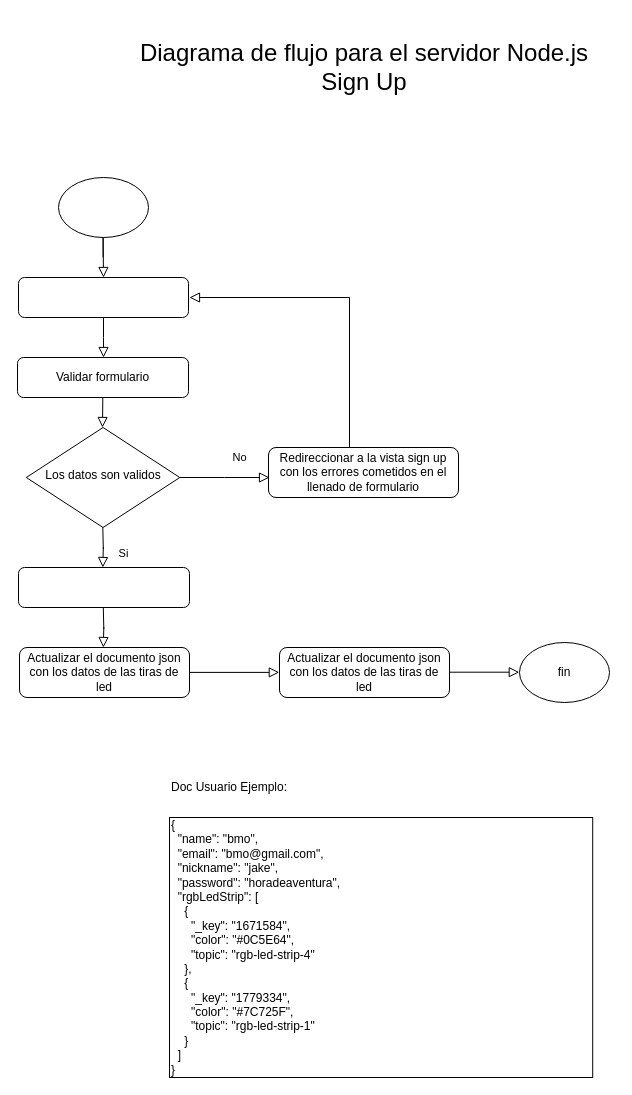
The diagram is 632 pixels wide and 1095 high, and some of its shapes have lost their labels. The shapes that lost their labels are listed below. From the top down, each one's centre as x and y in pixels, then its label:
the point at 103,207: Inicio
the point at 103,297: sign up
the point at 104,587: Registrarlo en la base de datos
